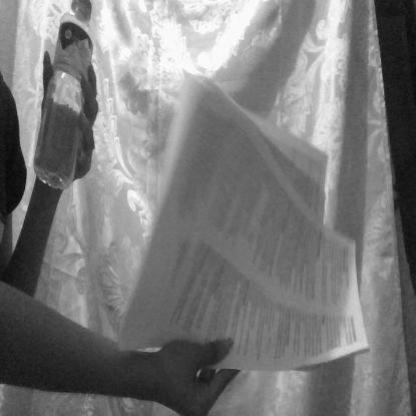Plastic Bottle: (31, 1, 95, 191)
